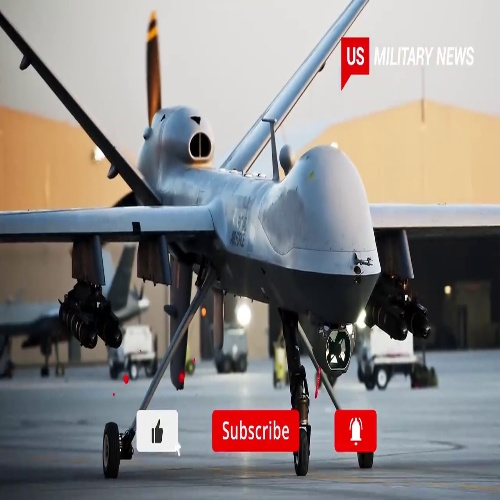uav: (1, 4, 497, 473)
